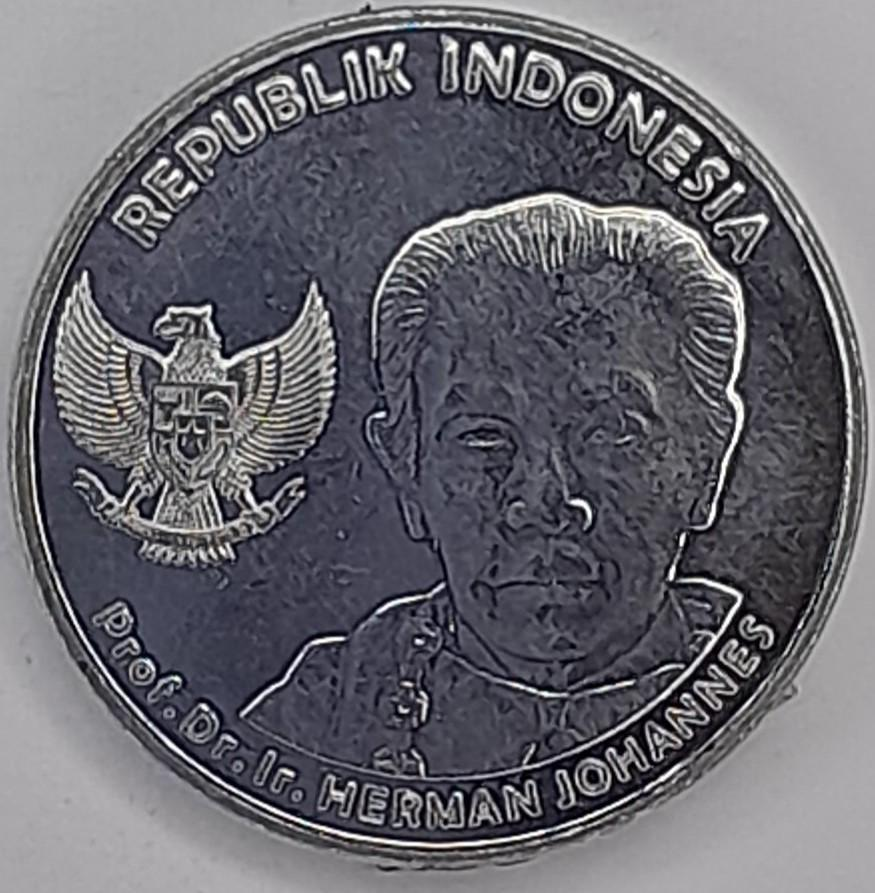coin_100_e2016: (2, 0, 872, 873)
